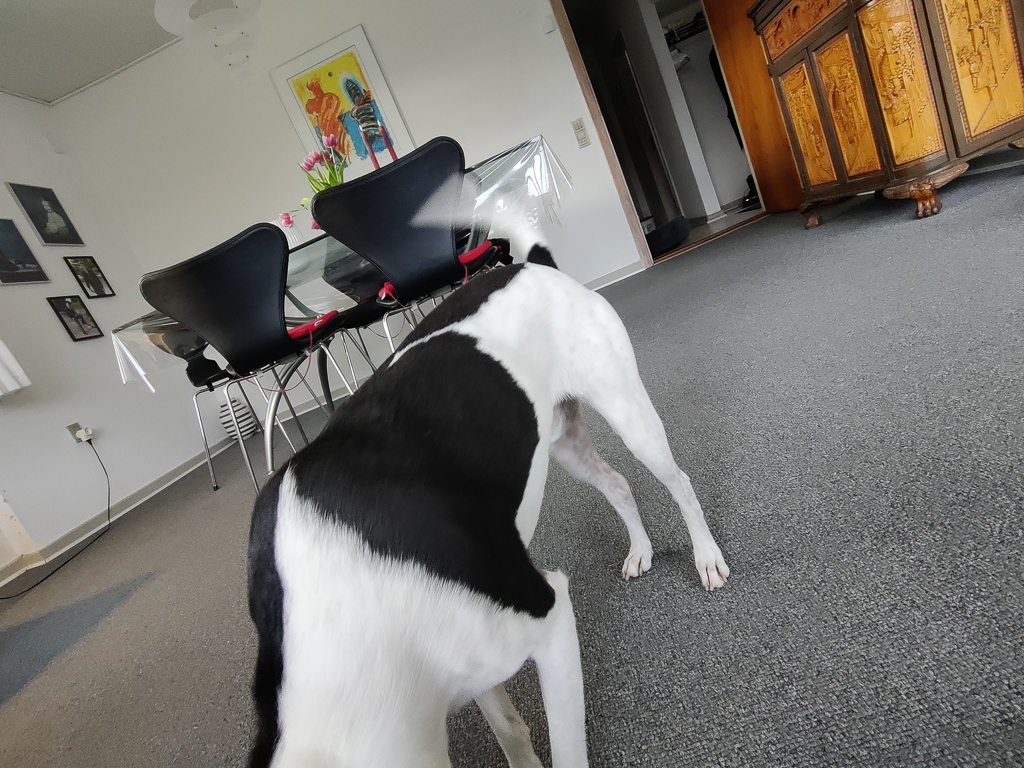Dog: (233, 168, 743, 768)
